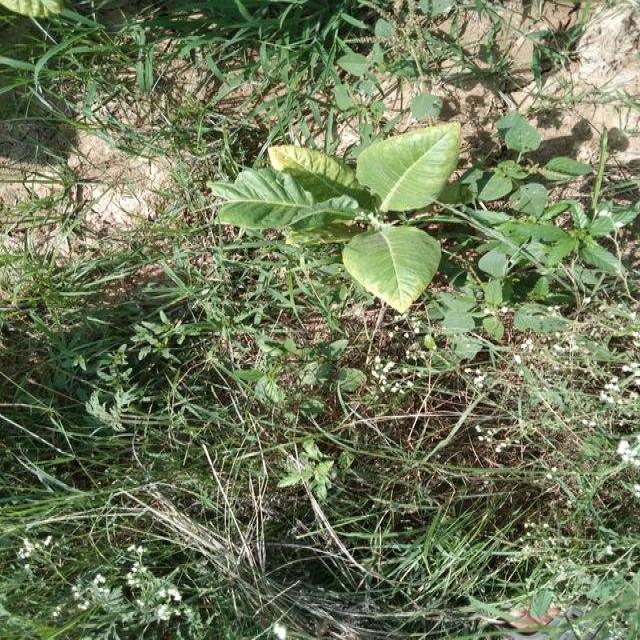crop: (214, 120, 472, 308)
